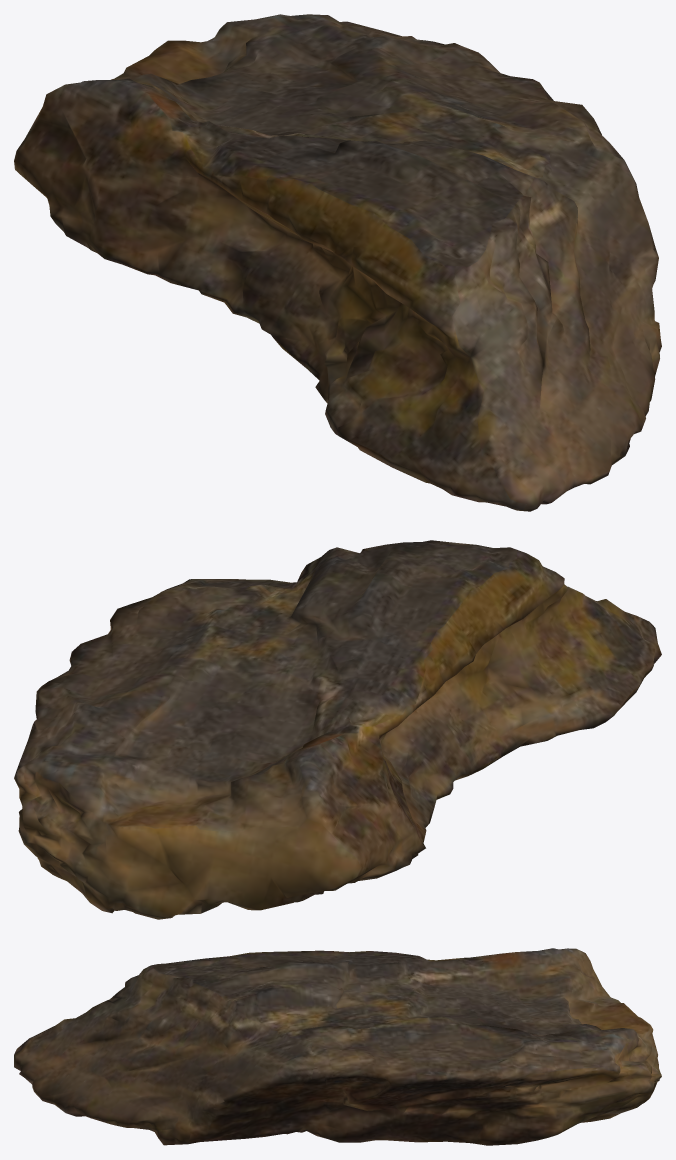
File: rock.glb
The picture shows the model from 3 angles, top to bottom: view 1: azimuth 30°, elevation 25°; view 2: azimuth 150°, elevation 25°; view 3: azimuth 270°, elevation 25°; orthographic projection. The views are drawn at different scales.
Parts seen in each view (by area): view 1: rock_09_LOD0; view 2: rock_09_LOD0; view 3: rock_09_LOD0.
Part boxes in pixels (bbox=[...]): rock_09_LOD0: bbox=[14, 14, 661, 511]; rock_09_LOD0: bbox=[14, 540, 661, 919]; rock_09_LOD0: bbox=[14, 948, 661, 1145].
Size of the model in its own units: 0.074 by 0.0328 by 0.1446.
1 material, 1 textured.
